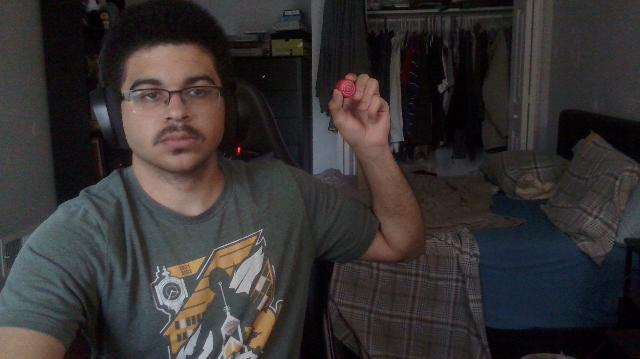cap: (336, 80, 356, 99)
